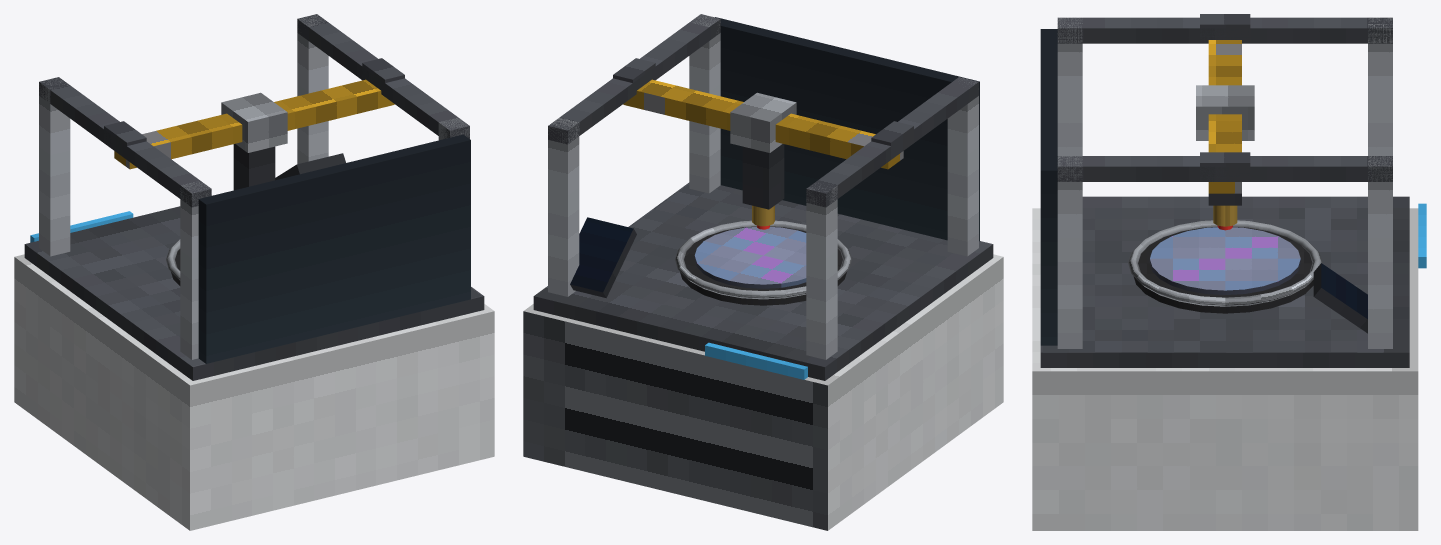
File: chip_fab.obj
3 views of the same model, side by side, from view 1: azimuth 30°, elevation 25°; view 2: azimuth 150°, elevation 25°; view 3: azimuth 270°, elevation 25° (orthographic). The views are drawn at different scales.
Bounding box in the file's own units: 0.9684 × 1 × 0.9895.
